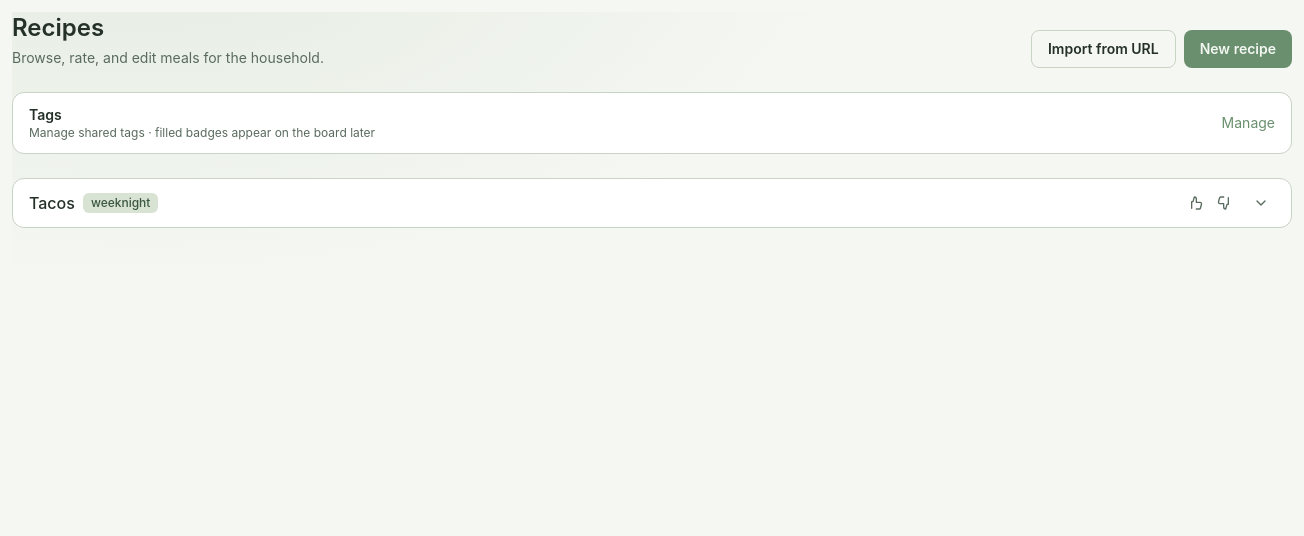
RecipesPage › deletes a recipe after confirm
Check: the text "Tacos" is shown, box [29,191,75,215]
Step 1. Click the button named "Expand recipe" → x=1261, y=203, box [1247,189,1275,217]
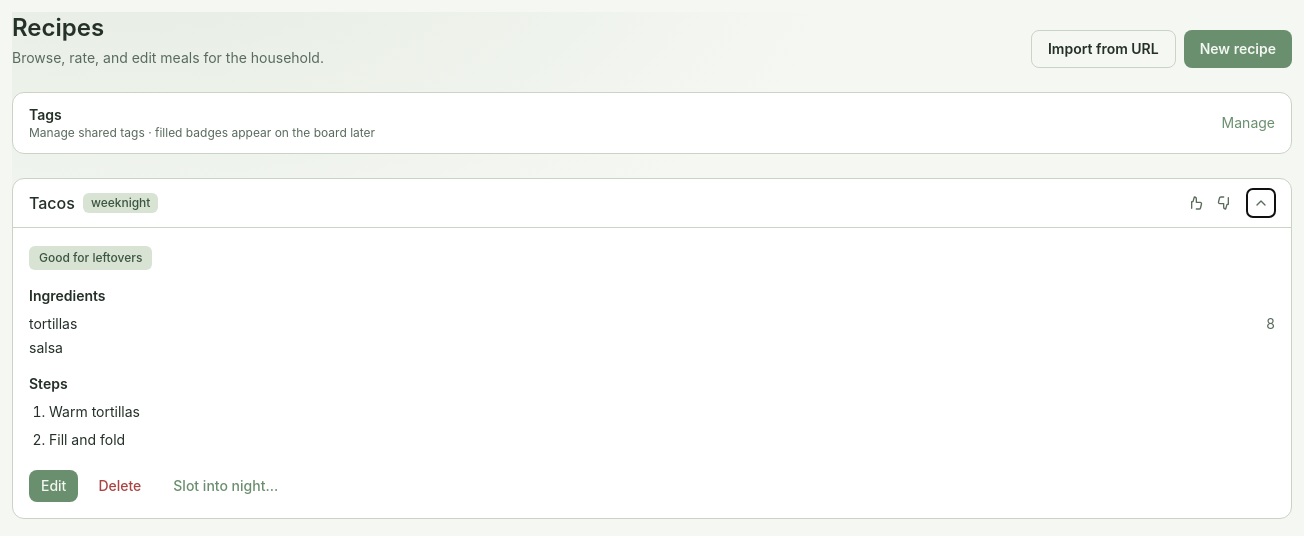
Step 2. Click the button "Delete" → x=120, y=486, box [86,470,153,502]
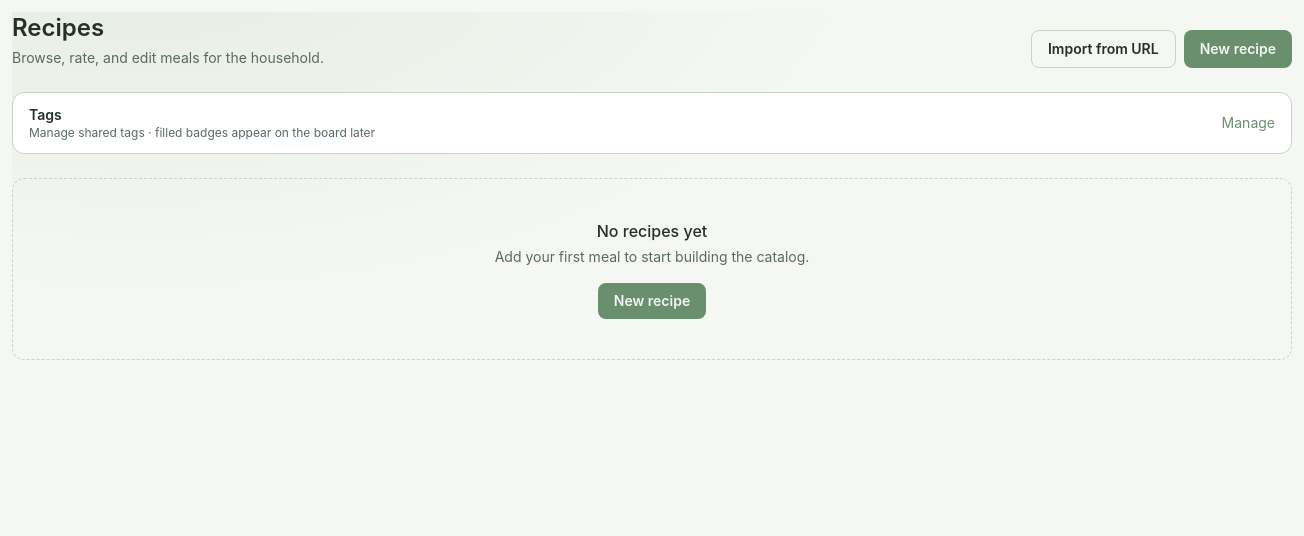
Check: the text "Tacos" is gone
